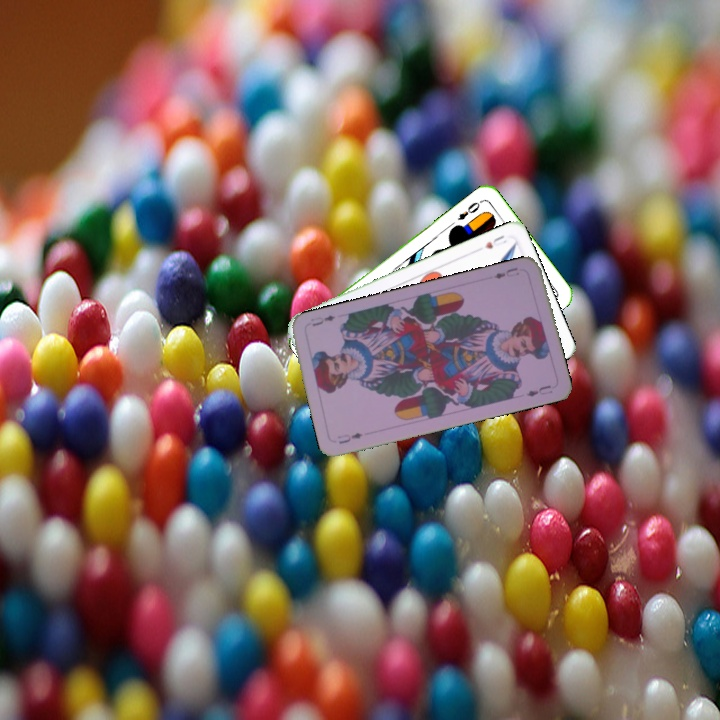EO: (453, 198, 483, 223)
EU: (490, 263, 520, 281), (334, 429, 365, 446)
HU: (480, 231, 509, 251)
